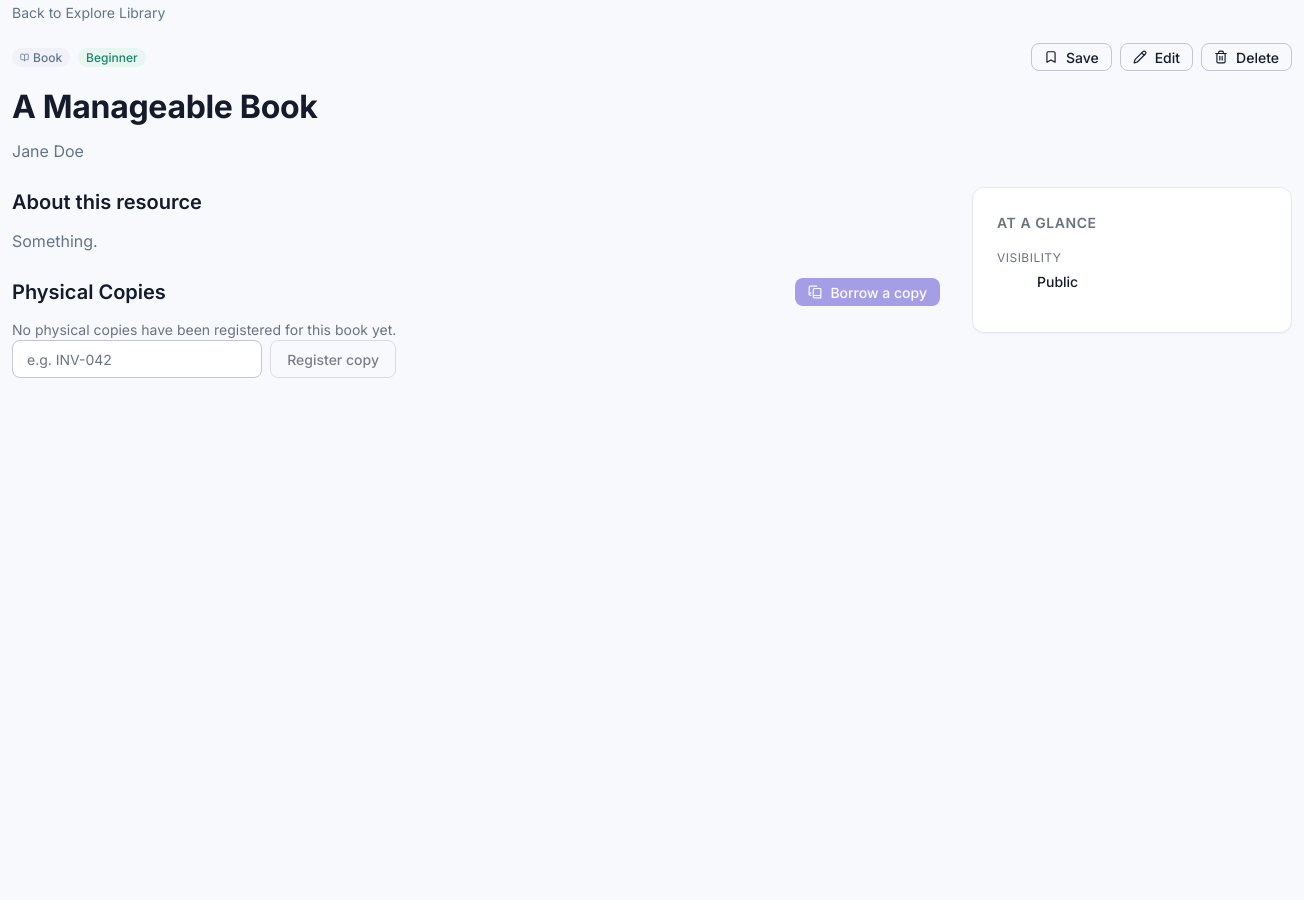
Scenario: ResourceDetailsPage › physical copies (Task 07) › an ADMIN can register a new copy
In the field named "New inventory code": x=137, y=359 [25,341,249,377], type "INV-NEW-1"
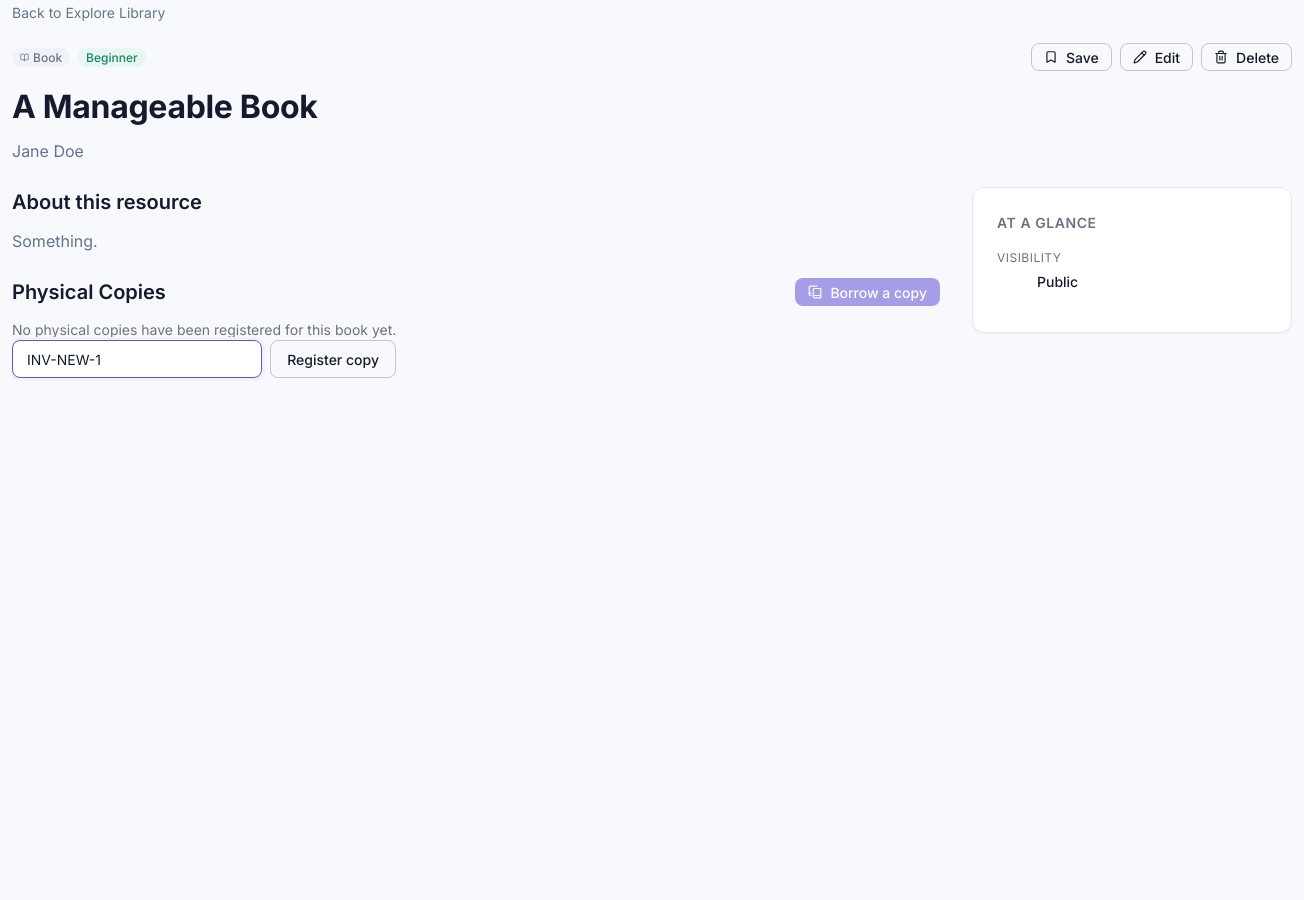
Click the button "Register copy": x=333, y=359 [270,340,396,378]
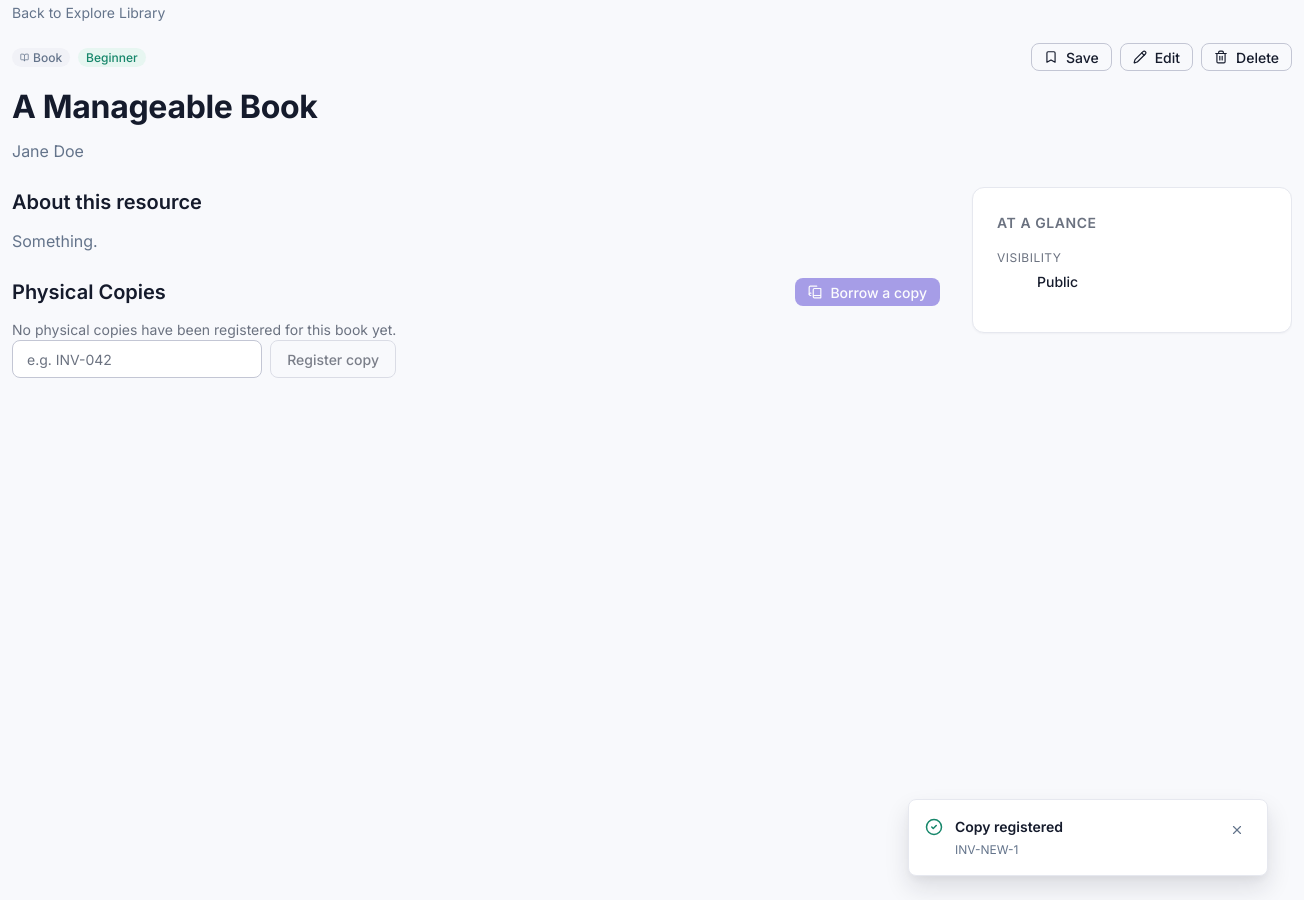
Now the text "Copy registered" is shown, box [955,818,1063,835]
Now the text "INV-NEW-1" is shown, box [955,842,1018,857]
